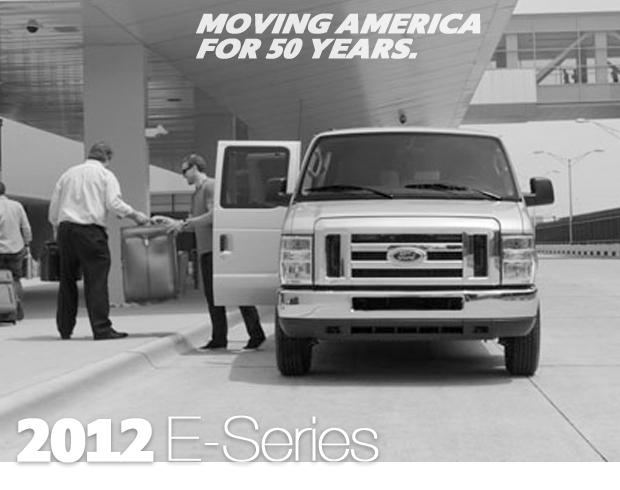car: (202, 121, 561, 384)
